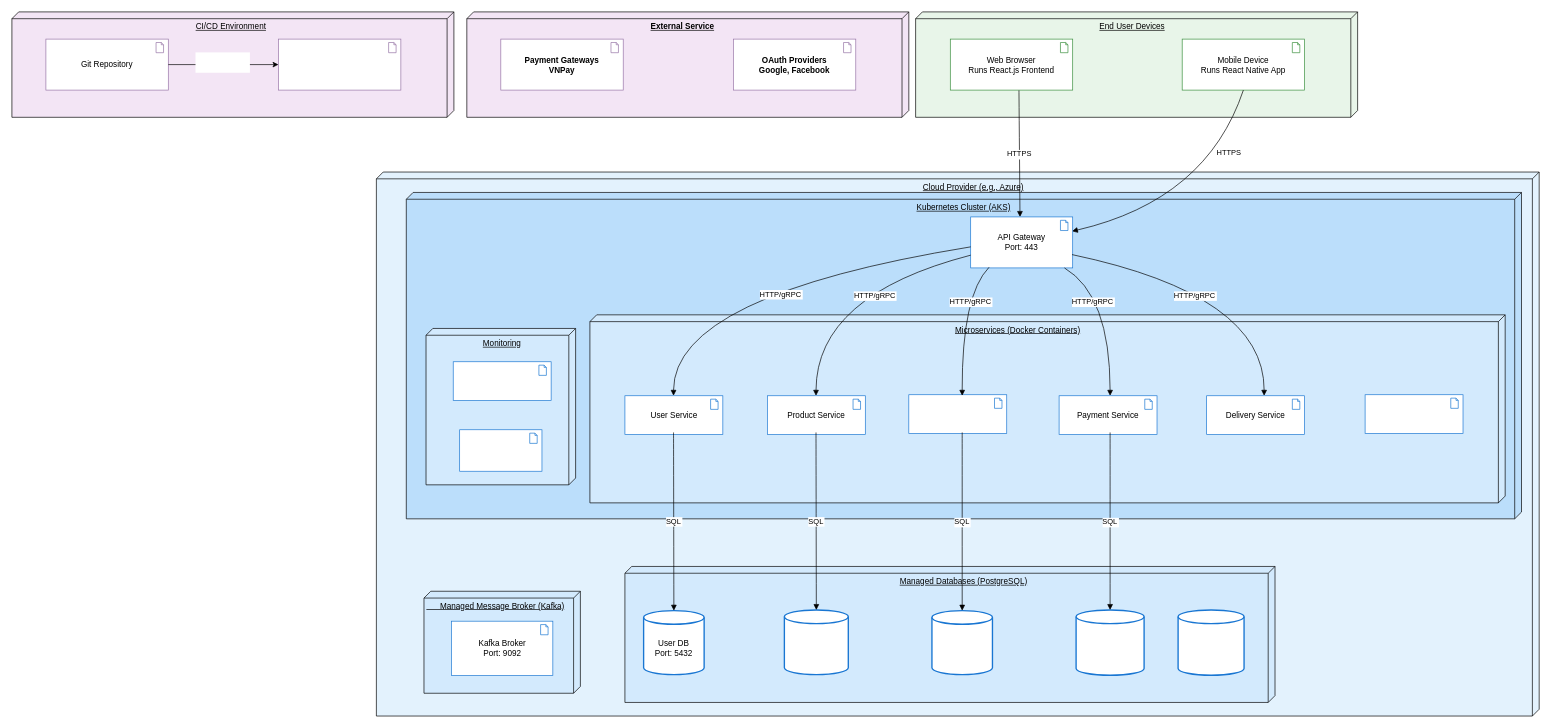
The diagram is 1551 pixels wide and 728 high, and some of its shapes have lost their labels. The shapes that lost their labels are listed below. From the top down, each one's centre as x and y in pixels, then its label:
(222,62): Code Push
(339,64): CI/CD Server (Azure DevOps/Jemkins
(502,381): Prometheus
(957,414): Order Service
(1413,414): Notification Service
(500,450): Grafana
(816,642): Product DB Port: 5433
(962,642): Order DB Port: 5434
(1109,642): Payment DB Port: 5435
(1210,642): Delivery DB Port: 5436
